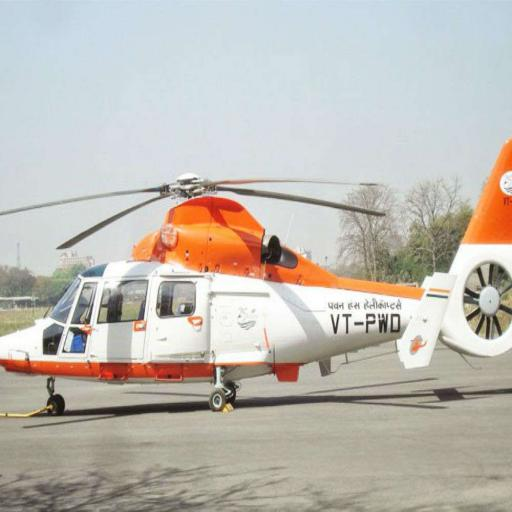helicopter: (10, 136, 512, 427)
